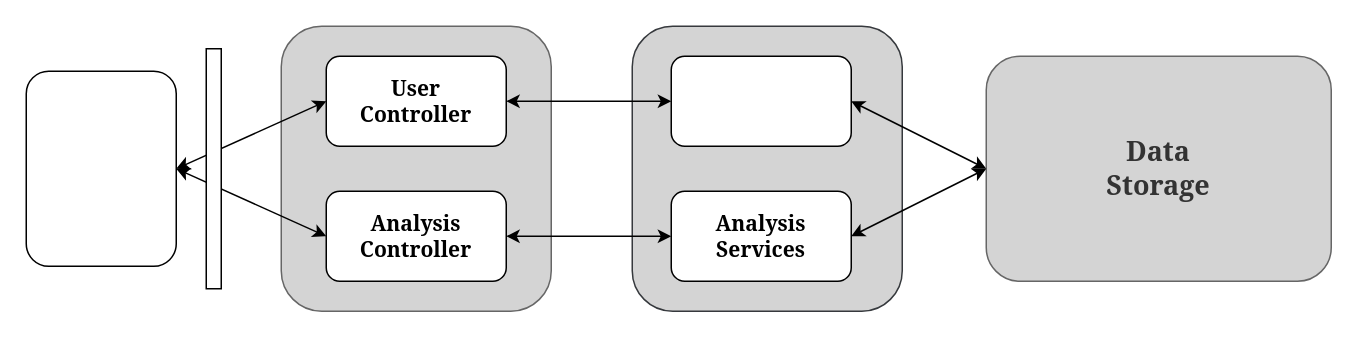
The diagram is 1358 pixels wide and 338 high, and some of its shapes have lost their labels. Each missing label, with the box of its shape:
Spring Servlet: (25, 70, 176, 266)
User Services: (670, 55, 851, 146)
